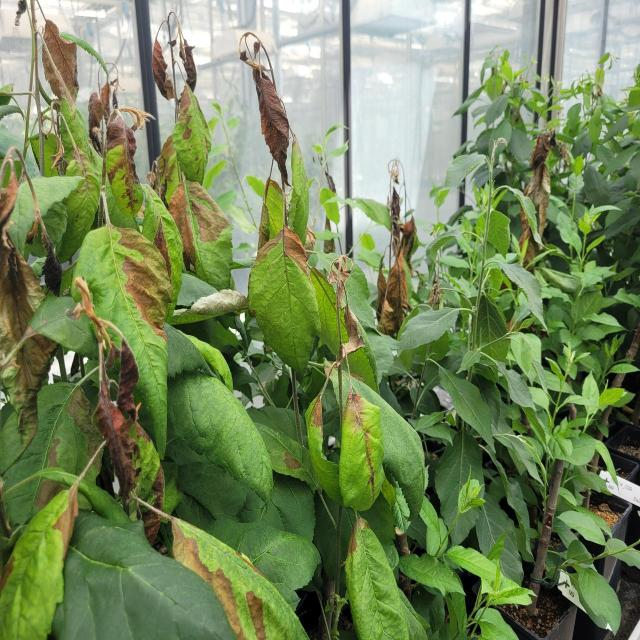-FireBlight-: (30, 15, 139, 150), (232, 33, 302, 182), (377, 163, 422, 333), (143, 12, 210, 102), (526, 129, 568, 262)
